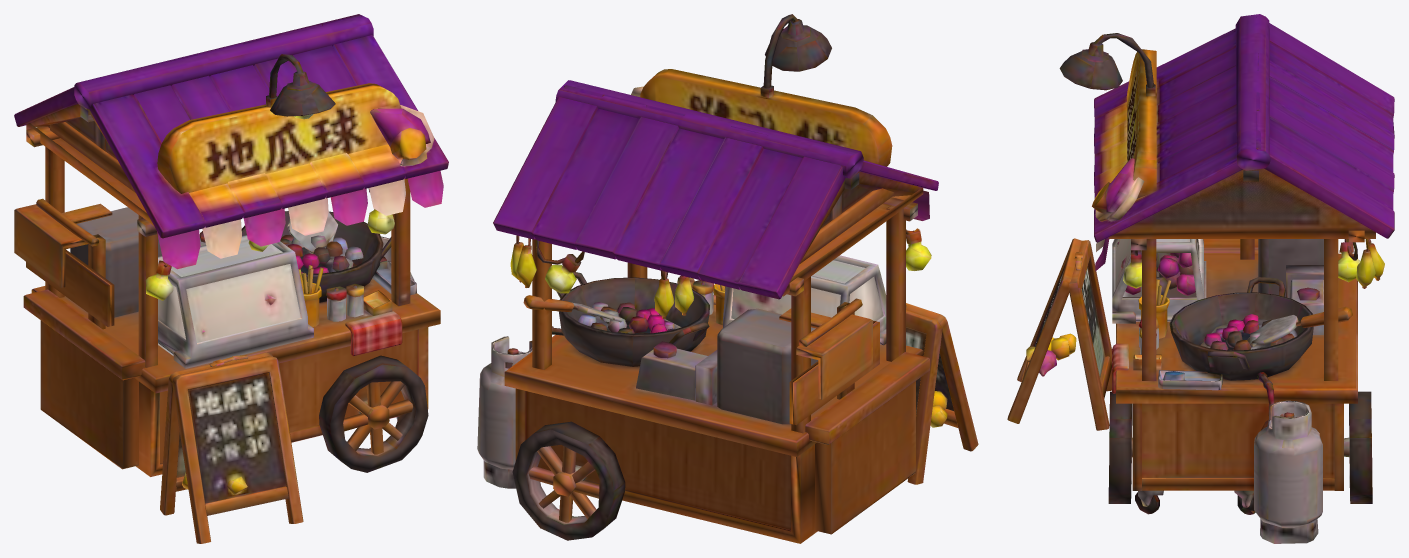
File: stall-qq-lite.glb
The picture shows the model from 3 angles, left to right: view 1: azimuth 30°, elevation 25°; view 2: azimuth 150°, elevation 25°; view 3: azimuth 270°, elevation 25°; orthographic projection. The views are drawn at different scales.
Visible parts, largest first — view 1: tripo_node_42d0ad64-23e8-4a42-a4a2-8ccba3cbda21; view 2: tripo_node_42d0ad64-23e8-4a42-a4a2-8ccba3cbda21; view 3: tripo_node_42d0ad64-23e8-4a42-a4a2-8ccba3cbda21.
Part boxes in pixels (bbox=[...]): tripo_node_42d0ad64-23e8-4a42-a4a2-8ccba3cbda21: bbox=[14, 14, 448, 543]; tripo_node_42d0ad64-23e8-4a42-a4a2-8ccba3cbda21: bbox=[477, 14, 978, 543]; tripo_node_42d0ad64-23e8-4a42-a4a2-8ccba3cbda21: bbox=[1007, 14, 1394, 543].
Bounding box in the file's own units: 0.8764 × 0.9966 × 0.8247.
1 material, 1 textured.
